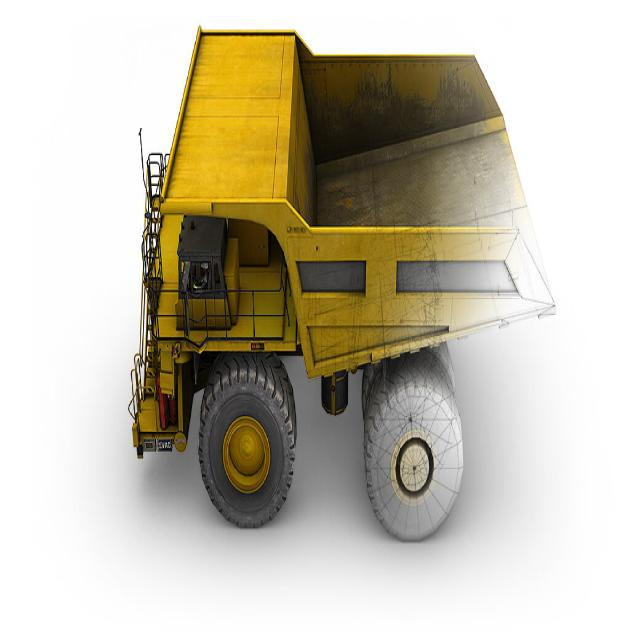dump_truck: (120, 10, 572, 604)
